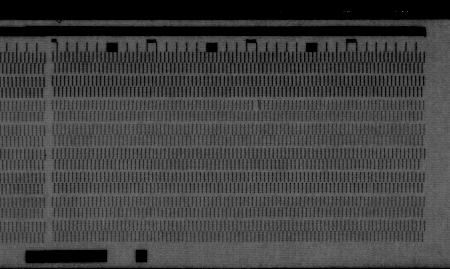Broken hole: (417, 158, 425, 170)
Oblique printing: (251, 98, 262, 109)
